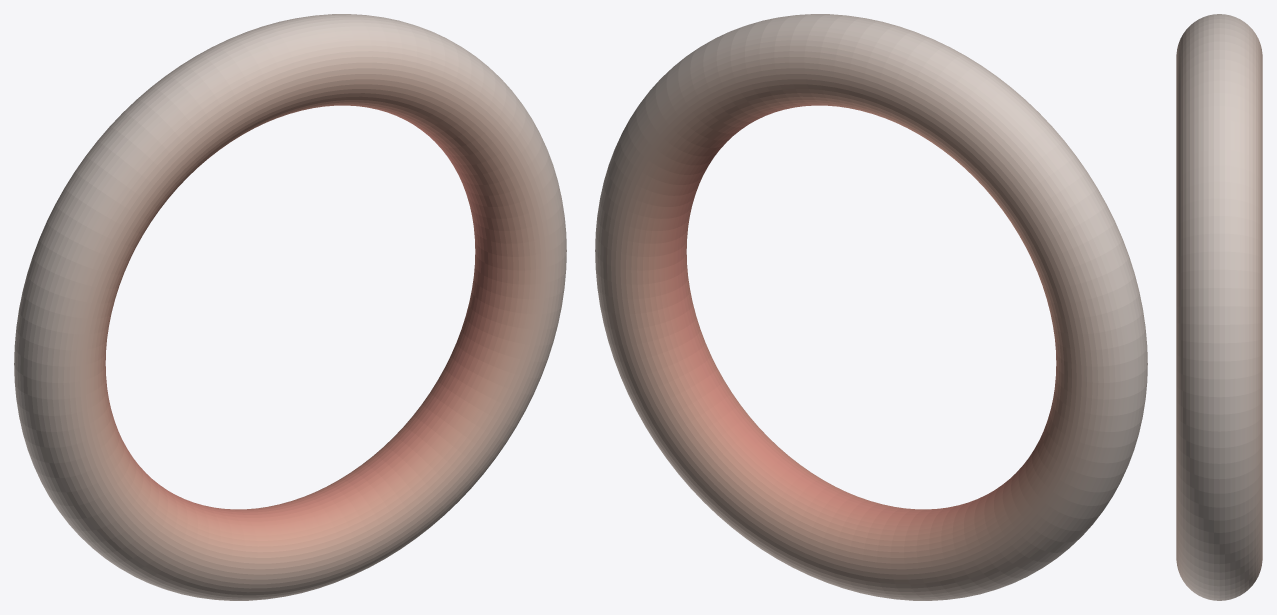
3 views of the same model, side by side, from view 1: azimuth 30°, elevation 25°; view 2: azimuth 150°, elevation 25°; view 3: azimuth 270°, elevation 25° (orthographic). The views are drawn at different scales.
Parts seen in each view (by area): view 1: world; view 2: world; view 3: world.
Boxes of the visible parts, x1,y1,x2,y2 form: world: (14, 14, 566, 600); world: (595, 14, 1147, 600); world: (1176, 14, 1262, 600).
Size of the model in its own units: 33.6 by 33.6 by 4.92.
